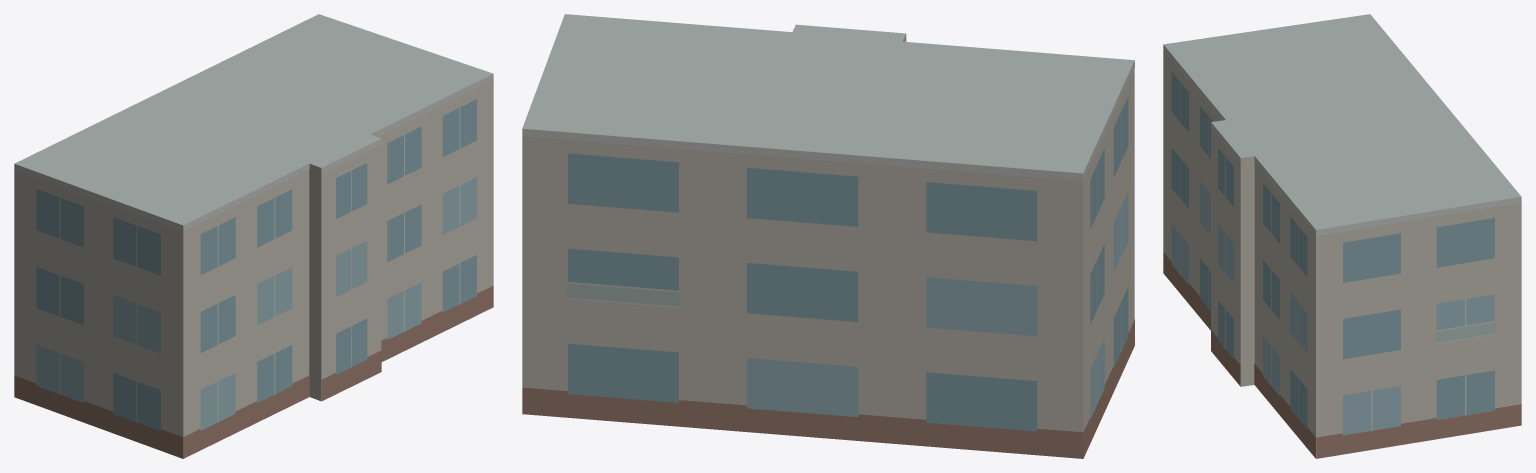
File: survey-upis-32703731.glb
The picture shows the model from 3 angles, left to right: view 1: azimuth 30°, elevation 25°; view 2: azimuth 150°, elevation 25°; view 3: azimuth 270°, elevation 25°; orthographic projection. The views are drawn at different scales.
Visible parts, largest first — view 1: survey-upis-32703731.tmp; view 2: survey-upis-32703731.tmp; view 3: survey-upis-32703731.tmp.
Part boxes in pixels (x1=…): survey-upis-32703731.tmp: x1=14, y1=14, x2=493, y2=458; survey-upis-32703731.tmp: x1=522, y1=14, x2=1134, y2=458; survey-upis-32703731.tmp: x1=1163, y1=14, x2=1521, y2=458.
Bounding box in the file's own units: 18.54 × 9.15 × 12.99.
